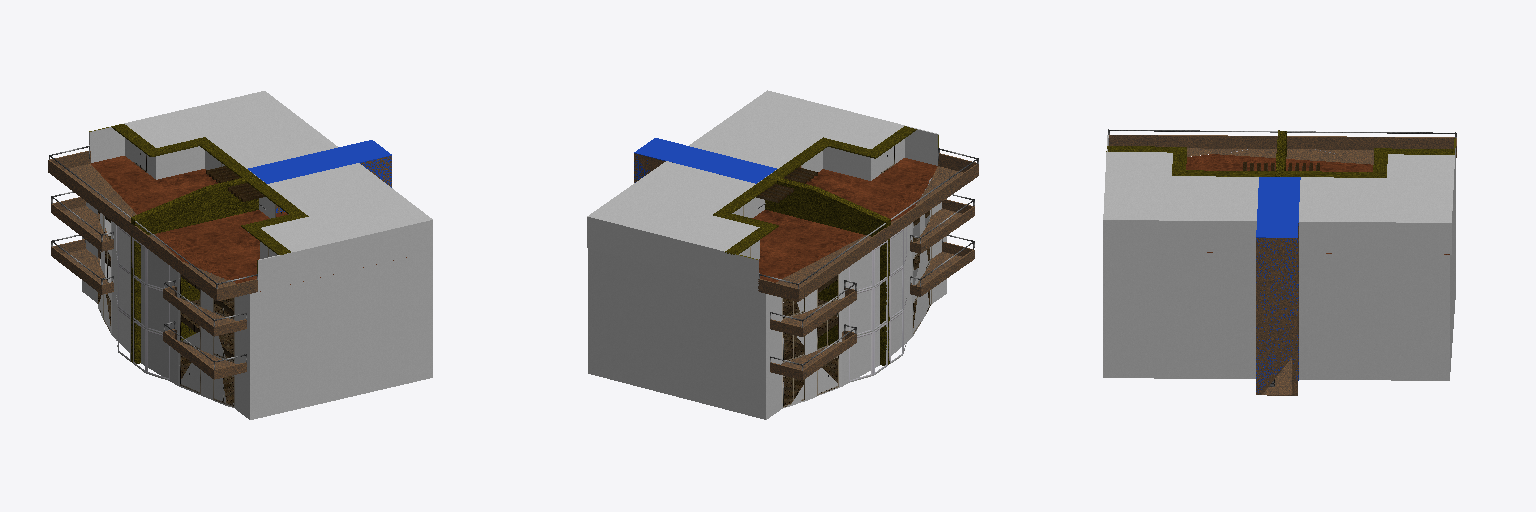
3 views of the same model, side by side, from view 1: azimuth 30°, elevation 25°; view 2: azimuth 150°, elevation 25°; view 3: azimuth 270°, elevation 25° (orthographic).
Parts seen in each view (by area): view 1: EdificioC_Plane.003, Puertastecho_Cube.019, Division.001_Cube.005, Losagrande_Cube.018, Cube.013_Cube.034, Losa2_Cube.015, Losa1_Cube.014, Losa3_Cube.016, Losa4_Cube.017, Cylinder_Cylinder.011, Planta1_Cube; view 2: EdificioC_Plane.003, Puertastecho_Cube.019, Losagrande_Cube.018, Division.001_Cube.005, Cube.013_Cube.034, Losa3_Cube.016, Losa4_Cube.017, Losa1_Cube.014, Losa2_Cube.015, Cylinder_Cylinder.011, Planta1_Cube, Plano.001_Plano.002; view 3: EdificioC_Plane.003, Puertastecho_Cube.019, Cube_Cube.004, Losagrande_Cube.018, Cube.013_Cube.034.
Boxes of the visible parts, <box> form: EdificioC_Plane.003: <box>82,156,432,419</box>; Puertastecho_Cube.019: <box>89,91,432,291</box>; Division.001_Cube.005: <box>131,175,258,363</box>; Losagrande_Cube.018: <box>48,151,257,300</box>; Cube.013_Cube.034: <box>248,140,391,212</box>; Losa2_Cube.015: <box>51,239,113,294</box>; Losa1_Cube.014: <box>51,197,113,251</box>; Losa3_Cube.016: <box>163,329,246,379</box>; Losa4_Cube.017: <box>163,286,246,336</box>; Cylinder_Cylinder.011: <box>49,145,257,369</box>; Planta1_Cube: <box>100,236,233,359</box>; EdificioC_Plane.003: <box>588,158,946,419</box>; Puertastecho_Cube.019: <box>587,90,938,291</box>; Losagrande_Cube.018: <box>758,153,978,301</box>; Division.001_Cube.005: <box>765,175,890,365</box>; Cube.013_Cube.034: <box>634,138,776,183</box>; Losa3_Cube.016: <box>910,242,974,296</box>; Losa4_Cube.017: <box>910,199,974,253</box>; Losa1_Cube.014: <box>770,288,856,336</box>; Losa2_Cube.015: <box>770,331,856,379</box>; Cylinder_Cylinder.011: <box>759,148,978,370</box>; Planta1_Cube: <box>783,237,929,359</box>; Plano.001_Plano.002: <box>804,290,816,401</box>; EdificioC_Plane.003: <box>1103,154,1455,380</box>; Puertastecho_Cube.019: <box>1103,135,1455,254</box>; Cube_Cube.004: <box>1256,223,1298,395</box>; Losagrande_Cube.018: <box>1109,135,1456,164</box>; Cube.013_Cube.034: <box>1256,177,1300,392</box>.
Size of the model in its own units: 41.45 by 25.11 by 50.71.
Materials: 50 (9 with a texture image).